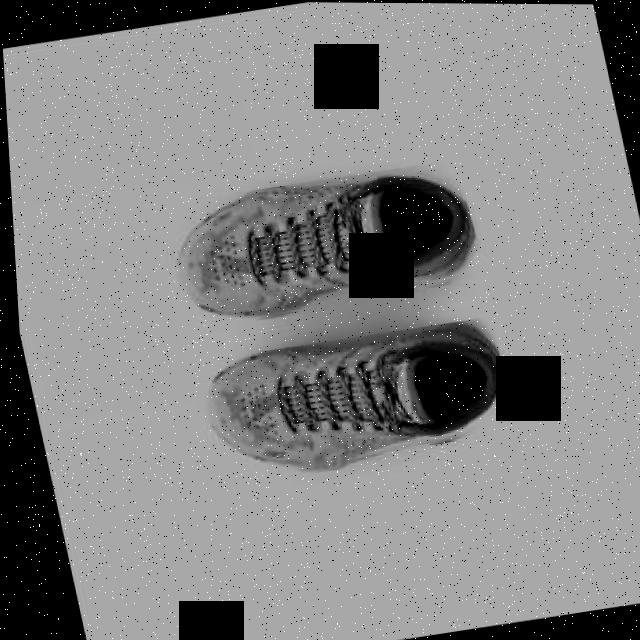shoe: (156, 157, 484, 333), (187, 314, 515, 486)
